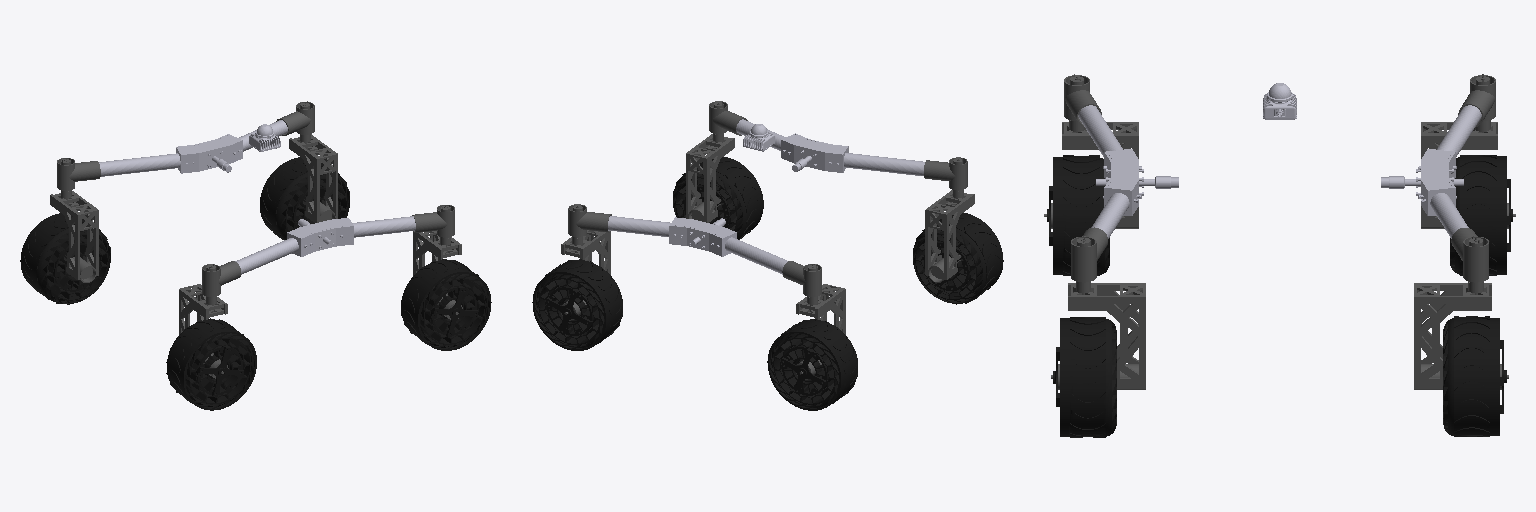
robot.urdf — athena_rover:
<?xml version="1.0" ?>
<!-- =================================================================================== -->
<!-- |    This document was autogenerated by xacro from athena_rover-6.urdf.xacro      | -->
<!-- |    EDITING THIS FILE BY HAND IS NOT RECOMMENDED                                 | -->
<!-- =================================================================================== -->
<!-- Athena Rover URDF v3 with STL mesh references. Generated from Athena.step. -->
<!-- All meshes exported in mm; scale="0.001 0.001 0.001" converts to metres.   -->
<!-- Package path: package://athena_description/meshes/                          -->
<robot name="athena_rover">
  
<!-- Camera mounting point (the threaded screw hole in the bottom) -->
  <link name="zed2i_camera_link"/>
  <!-- Camera Center -->
  <link name="zed2i_camera_center">
    <visual>
      <origin rpy="0 0 0" xyz="-0.01 0 0.0"/>
      <geometry>
        <mesh filename="package://zed_description/meshes/zed2i.stl"/>
      </geometry>
      <material name="zed_mat">
        <color rgba="0.25 0.25 0.25 1.0"/>
      </material>
    </visual>
    <collision>
      <origin rpy="0 0 0" xyz="-0.01 0 0.0"/>
      <geometry>
        <mesh filename="package://zed_description/meshes/zed2i.stl"/>
      </geometry>
    </collision>
    <inertial>
      <origin rpy="0 0 0" xyz="-0.01 0 0.0"/>
      <mass value="0"/>
      <inertia ixx="0.00044" ixy="0.0" ixz="0.0" iyy="0.0000275" iyz="0.0" izz="0.00044"/>
    </inertial>
  </link>
  <joint name="zed2i_camera_center_joint" type="fixed">
    <parent link="zed2i_camera_link"/>
    <child link="zed2i_camera_center"/>
    <origin rpy="0 0.0 0" xyz="0 0 0.015"/>
  </joint>
  <!-- Left Camera -->
  <link name="zed2i_left_camera_frame">
  </link>
  <joint name="zed2i_left_camera_joint" type="fixed">
    <parent link="zed2i_camera_center"/>
    <child link="zed2i_left_camera_frame"/>
    <origin rpy="0 0 0" xyz="-0.01 0.06 0"/>
  </joint>
  <link name="zed2i_left_camera_frame_optical"/>
  <joint name="zed2i_left_camera_joint_optical" type="fixed">
    <origin rpy="-1.5707963267948966 0.0 -1.5707963267948966" xyz="0 0 0"/>
    <parent link="zed2i_left_camera_frame"/>
    <child link="zed2i_left_camera_frame_optical"/>
  </joint>
  <!-- Right Camera -->
  <link name="zed2i_right_camera_frame">
  </link>
  <joint name="zed2i_right_camera_joint" type="fixed">
    <parent link="zed2i_camera_center"/>
    <child link="zed2i_right_camera_frame"/>
    <origin rpy="0 0 0" xyz="-0.01 -0.06 0"/>
  </joint>
  <link name="zed2i_right_camera_frame_optical"/>
  <joint name="zed2i_right_camera_joint_optical" type="fixed">
    <origin rpy="-1.5707963267948966 0.0 -1.5707963267948966" xyz="0 0 0"/>
    <parent link="zed2i_right_camera_frame"/>
    <child link="zed2i_right_camera_frame_optical"/>
  </joint>

  <material name="aluminium">
    <color rgba="0.75 0.75 0.80 1.0"/>
  </material>
  <material name="rubber">
    <color rgba="0.15 0.15 0.15 1.0"/>
  </material>
  <material name="motor_grey">
    <color rgba="0.4 0.4 0.4 1.0"/>
  </material>
  <material name="tpu_orange">
    <color rgba="0.9 0.45 0.1 1.0"/>
  </material>
  <link name="base_footprint"/>
  <joint name="base_footprint_to_base" type="fixed">
    <parent link="base_footprint"/>
    <child link="base_link"/>
    <origin rpy="0 0 0" xyz="0.0 0.0 0.155"/>
  </joint>
  <link name="base_link">
    <visual>
      <origin rpy="0 0 0" xyz="-0.2600 0.7500 -0.0850"/>
      <geometry>
        <mesh filename="package://athena_description/meshes/visual/chassis.stl" scale="0.001 0.001 0.001"/>
      </geometry>
      <material name="aluminium"/>
    </visual>
    <collision>
      <origin rpy="0 0 0" xyz="-0.2600 0.7500 -0.0850"/>
      <geometry>
        <mesh filename="package://athena_description/meshes/collision/chassis.stl" scale="0.001 0.001 0.001"/>
      </geometry>
    </collision>
    <inertial>
      <mass value="8.0"/>
      <origin rpy="0 0 0" xyz="0.0 0.0 0.0"/>
      <inertia ixx="0.400" ixy="0.0" ixz="0.0" iyy="0.180" iyz="0.0" izz="0.500"/>
    </inertial>
  </link>
  <joint name="zed2i_mount_joint" type="fixed">
    <parent link="base_link"/>
    <child link="zed2i_camera_link"/>
    <origin rpy="0 0 0" xyz="0.2 0 0.1"/>
  </joint>
  <link name="livox_mid360_link">
    <visual>
      <origin rpy="1.5708 0 0" xyz="0.0 0.0 0.0"/>
      <geometry>
        <mesh filename="package://athena_description/meshes/visual/livox-mid-360-asm.stl" scale="0.001 0.001 0.001"/>
      </geometry>
      <material name="aluminium"/>
    </visual>
<!-- Prevent collision with Genesis LIDAR rays and the mesh
    <collision>
      <origin rpy="1.5708 0 0" xyz="0.0 0.0 0.0"/>
      <geometry>
        <mesh filename="package://athena_description/meshes/collision/livox-mid-360-asm.stl" scale="0.001 0.001 0.001"/>
      </geometry>
    </collision>
-->
    <inertial>
      <mass value="1.2"/>
      <origin rpy="0 0 0" xyz="0.00 0.00 0.00"/>
      <inertia ixx="1e-4" ixy="0.0" ixz="0.0" iyy="1e-4" iyz="0.0" izz="1e-4"/>
    </inertial>
  </link>
  <joint name="livox_mid360_joint" type="fixed">
    <parent link="base_link"/>
    <child link="livox_mid360_link"/>
    <origin rpy="0 0 0" xyz="0 0 0.175"/>
  </joint>
  <link name="bogey_left">
    <visual>
      <origin rpy="0 3.1416 3.1416" xyz="-0.2600 -1.0250 0.0645"/>
      <geometry>
        <mesh filename="package://athena_description/meshes/visual/bogey_arm.stl" scale="0.001 0.001 0.001"/>
      </geometry>
      <material name="aluminium"/>
    </visual>
    <collision>
      <origin rpy="0 3.1416 3.1416" xyz="-0.2600 -1.0250 0.0645"/>
      <geometry>
        <mesh filename="package://athena_description/meshes/collision/bogey_arm.stl" scale="0.001 0.001 0.001"/>
      </geometry>
    </collision>
    <inertial>
      <mass value="1.2"/>
      <origin rpy="0 0 0" xyz="0.0 0.275 0.0"/>
      <inertia ixx="0.030" ixy="0.0" ixz="0.0" iyy="0.002" iyz="0.0" izz="0.030"/>
    </inertial>
  </link>
  <joint name="bogey_left_pivot" type="revolute">
    <parent link="base_link"/>
    <child link="bogey_left"/>
    <origin rpy="0 0 0" xyz="0.0 0.275 0.0"/>
    <axis xyz="0 1 0"/>
    <limit effort="0" lower="-0.5236" upper="0.5236" velocity="1.0"/>
    <dynamics damping="0.5" friction="0.1"/>
  </joint>
  <link name="bogey_right">
    <visual>
      <origin rpy="0 0 0" xyz="-0.2600 1.0250 -0.0645"/>
      <geometry>
        <mesh filename="package://athena_description/meshes/visual/bogey_arm.stl" scale="0.001 0.001 0.001"/>
      </geometry>
      <material name="aluminium"/>
    </visual>
    <collision>
      <origin rpy="0 0 0" xyz="-0.2600 1.0250 -0.0645"/>
      <geometry>
        <mesh filename="package://athena_description/meshes/collision/bogey_arm.stl" scale="0.001 0.001 0.001"/>
      </geometry>
    </collision>
    <inertial>
      <mass value="1.2"/>
      <origin rpy="0 0 0" xyz="0.0 -0.275 0.0"/>
      <inertia ixx="0.030" ixy="0.0" ixz="0.0" iyy="0.002" iyz="0.0" izz="0.030"/>
    </inertial>
  </link>
  <joint name="bogey_right_pivot" type="revolute">
    <parent link="base_link"/>
    <child link="bogey_right"/>
    <origin rpy="0 0 0" xyz="0.0 -0.275 0.0"/>
    <axis xyz="0 1 0"/>
    <limit effort="0" lower="-0.5236" upper="0.5236" velocity="1.0"/>
    <dynamics damping="0.5" friction="0.1"/>
  </joint>
  <!-- ================================================================ -->
  <!-- FRONT-LEFT: steering split into housing (fixed) + coupler (steers) -->
  <!-- ================================================================ -->
  <link name="steer_housing_front_left">
    <visual>
      <origin rpy="0 0 3.1416" xyz="0.6145 -1.1306 -0.1077"/>
      <geometry>
        <mesh filename="package://athena_description/meshes/visual/SteeringMotorHousing.stl" scale="0.001 0.001 0.001"/>
      </geometry>
      <material name="motor_grey"/>
    </visual>
    <collision>
      <origin rpy="0 0 3.1416" xyz="0.6145 -1.1306 -0.1077"/>
      <geometry>
        <mesh filename="package://athena_description/meshes/collision/SteeringMotorHousing.stl" scale="0.001 0.001 0.001"/>
      </geometry>
    </collision>
    <inertial>
      <mass value="0.2"/>
      <inertia ixx="0.0001" ixy="0" ixz="0" iyy="0.0001" iyz="0" izz="0.00005"/>
    </inertial>
  </link>
  <joint name="steer_housing_mount_front_left" type="fixed">
    <parent link="bogey_left"/>
    <child link="steer_housing_front_left"/>
    <origin rpy="0 0 0" xyz="-0.39291 0.11681 0.0425000"/>
  </joint>
  <link name="steer_coupler_front_left">
    <visual>
      <origin rpy="0 0 0" xyz="-0.6145 1.1307 0.0063"/>
      <geometry>
        <mesh filename="package://athena_description/meshes/visual/stearing.stl" scale="0.001 0.001 0.001"/>
      </geometry>
      <material name="motor_grey"/>
    </visual>
    <collision>
      <origin rpy="0 0 0" xyz="-0.6145 1.1307 0.0063"/>
      <geometry>
        <mesh filename="package://athena_description/meshes/collision/stearing.stl" scale="0.001 0.001 0.001"/>
      </geometry>
    </collision>
    <inertial>
      <mass value="0.15"/>
      <inertia ixx="0.0001" ixy="0" ixz="0" iyy="0.0001" iyz="0" izz="0.00005"/>
    </inertial>
  </link>
  <joint name="steer_front_left" type="revolute">
    <parent link="steer_housing_front_left"/>
    <child link="steer_coupler_front_left"/>
    <origin rpy="0 0 0" xyz="0.0 0.0 -0.111"/>
    <axis xyz="0 0 1"/>
    <limit effort="10" lower="-1.57" upper="1.57" velocity="1.0"/>
    <dynamics damping="0.2" friction="0.05"/>
  </joint>
  <link name="wheel_front_left">
    <visual>
      <origin rpy="0 0 0" xyz="0.4497 0.3642 0.1895"/>
      <geometry>
        <mesh filename="package://athena_description/meshes/visual/wheel.stl" scale="0.001 0.001 0.001"/>
      </geometry>
      <material name="rubber"/>
    </visual>
    <collision>
      <origin rpy="1.5708 0 0" xyz="0 0 0"/>
      <geometry>
        <cylinder length="0.080" radius="0.115"/>
      </geometry>
    </collision>
    <inertial>
      <mass value="0.8"/>
      <inertia ixx="0.006" ixy="0" ixz="0" iyy="0.010" iyz="0" izz="0.006"/>
    </inertial>
  </link>
  <joint name="wheel_front_left_spin" type="continuous">
    <parent link="steer_coupler_front_left"/>
    <child link="wheel_front_left"/>
    <origin rpy="0 0 0" xyz="0.0 0.0 -0.186"/>
    <axis xyz="0 1 0"/>
    <dynamics damping="0.01" friction="0.05"/>
    <limit effort="100.0" upper="3.14" velocity="10.0"/>
  </joint>
  <!-- ================================================================ -->
  <!-- REAR-LEFT -->
  <!-- ================================================================ -->
  <link name="steer_housing_rear_left">
    <visual>
      <origin rpy="0 0 0.5317" xyz="-1.1029 0.6629 -0.1077"/>
      <geometry>
        <mesh filename="package://athena_description/meshes/visual/SteeringMotorHousing.stl" scale="0.001 0.001 0.001"/>
      </geometry>
      <material name="motor_grey"/>
    </visual>
    <collision>
      <origin rpy="0 0 0.5317" xyz="-1.1029 0.6629 -0.1077"/>
      <geometry>
        <mesh filename="package://athena_description/meshes/collision/SteeringMotorHousing.stl" scale="0.001 0.001 0.001"/>
      </geometry>
    </collision>
    <inertial>
      <mass value="0.2"/>
      <inertia ixx="0.0001" ixy="0" ixz="0" iyy="0.0001" iyz="0" izz="0.00005"/>
    </inertial>
  </link>
  <joint name="steer_housing_mount_rear_left" type="fixed">
    <parent link="bogey_left"/>
    <child link="steer_housing_rear_left"/>
    <origin rpy="0 0 0" xyz="0.34458 0.10398 0.0425000"/>
  </joint>
  <link name="steer_coupler_rear_left">
    <visual>
      <origin rpy="0 0 0" xyz="-0.6145 1.1307 0.0063"/>
      <geometry>
        <mesh filename="package://athena_description/meshes/visual/stearing.stl" scale="0.001 0.001 0.001"/>
      </geometry>
      <material name="motor_grey"/>
    </visual>
    <collision>
      <origin rpy="0 0 0" xyz="-0.6145 1.1307 0.0063"/>
      <geometry>
        <mesh filename="package://athena_description/meshes/collision/stearing.stl" scale="0.001 0.001 0.001"/>
      </geometry>
    </collision>
    <inertial>
      <mass value="0.15"/>
      <inertia ixx="0.0001" ixy="0" ixz="0" iyy="0.0001" iyz="0" izz="0.00005"/>
    </inertial>
  </link>
  <joint name="steer_rear_left" type="revolute">
    <parent link="steer_housing_rear_left"/>
    <child link="steer_coupler_rear_left"/>
    <origin rpy="0 0 0" xyz="0.0 0.0 -0.111"/>
    <axis xyz="0 0 1"/>
    <limit effort="10" lower="-1.57" upper="1.57" velocity="1.0"/>
    <dynamics damping="0.2" friction="0.05"/>
  </joint>
  <link name="wheel_rear_left">
    <visual>
      <origin rpy="0 0 0" xyz="0.4497 0.3642 0.1895"/>
      <geometry>
        <mesh filename="package://athena_description/meshes/visual/wheel.stl" scale="0.001 0.001 0.001"/>
      </geometry>
      <material name="rubber"/>
    </visual>
    <collision>
      <origin rpy="1.5708 0 0" xyz="0 0 0"/>
      <geometry>
        <cylinder length="0.080" radius="0.115"/>
      </geometry>
    </collision>
    <inertial>
      <mass value="0.8"/>
      <inertia ixx="0.006" ixy="0" ixz="0" iyy="0.010" iyz="0" izz="0.006"/>
    </inertial>
  </link>
  <joint name="wheel_rear_left_spin" type="continuous">
    <parent link="steer_coupler_rear_left"/>
    <child link="wheel_rear_left"/>
    <origin rpy="0 0 0" xyz="0.0 0.0 -0.186"/>
    <axis xyz="0 1 0"/>
    <dynamics damping="0.01" friction="0.05"/>
  </joint>
  <!-- ================================================================ -->
  <!-- FRONT-RIGHT (mirrored) -->
  <!-- ================================================================ -->
  <link name="steer_housing_front_right">
    <visual>
      <origin rpy="0 0 3.6692" xyz="1.1002 -0.6674 -0.1077"/>
      <geometry>
        <mesh filename="package://athena_description/meshes/visual/SteeringMotorHousing.stl" scale="0.001 0.001 0.001"/>
      </geometry>
      <material name="motor_grey"/>
    </visual>
    <collision>
      <origin rpy="0 0 3.6692" xyz="1.1002 -0.6674 -0.1077"/>
      <geometry>
        <mesh filename="package://athena_description/meshes/collision/SteeringMotorHousing.stl" scale="0.001 0.001 0.001"/>
      </geometry>
    </collision>
    <inertial>
      <mass value="0.2"/>
      <inertia ixx="0.0001" ixy="0" ixz="0" iyy="0.0001" iyz="0" izz="0.00005"/>
    </inertial>
  </link>
  <joint name="steer_housing_mount_front_right" type="fixed">
    <parent link="bogey_right"/>
    <child link="steer_housing_front_right"/>
    <origin rpy="0 0 0" xyz="-0.39291 -0.11681 0.0425000"/>
  </joint>
  <link name="steer_coupler_front_right">
    <visual>
      <origin rpy="0 0 3.1416" xyz="0.6145 -1.1307 0.0063"/>
      <geometry>
        <mesh filename="package://athena_description/meshes/visual/stearing.stl" scale="0.001 0.001 0.001"/>
      </geometry>
      <material name="motor_grey"/>
    </visual>
    <collision>
      <origin rpy="0 0 3.1416" xyz="0.6145 -1.1307 0.0063"/>
      <geometry>
        <mesh filename="package://athena_description/meshes/collision/stearing.stl" scale="0.001 0.001 0.001"/>
      </geometry>
    </collision>
    <inertial>
      <mass value="0.15"/>
      <inertia ixx="0.0001" ixy="0" ixz="0" iyy="0.0001" iyz="0" izz="0.00005"/>
    </inertial>
  </link>
  <joint name="steer_front_right" type="revolute">
    <parent link="steer_housing_front_right"/>
    <child link="steer_coupler_front_right"/>
    <origin rpy="0 0 0" xyz="0.0 0.0 -0.111"/>
    <axis xyz="0 0 1"/>
    <limit effort="10" lower="-1.57" upper="1.57" velocity="1.0"/>
    <dynamics damping="0.2" friction="0.05"/>
  </joint>
  <link name="wheel_front_right">
    <visual>
      <origin rpy="0 0 3.1416" xyz="-0.4497 -0.3642 0.1895"/>
      <geometry>
        <mesh filename="package://athena_description/meshes/visual/wheel.stl" scale="0.001 0.001 0.001"/>
      </geometry>
      <material name="rubber"/>
    </visual>
    <collision>
      <origin rpy="1.5708 0 0" xyz="0 0 0"/>
      <geometry>
        <cylinder length="0.080" radius="0.115"/>
      </geometry>
    </collision>
    <inertial>
      <mass value="0.8"/>
      <inertia ixx="0.006" ixy="0" ixz="0" iyy="0.010" iyz="0" izz="0.006"/>
    </inertial>
  </link>
  <joint name="wheel_front_right_spin" type="continuous">
    <parent link="steer_coupler_front_right"/>
    <child link="wheel_front_right"/>
    <origin rpy="0 0 0" xyz="0.0 0.0 -0.186"/>
    <axis xyz="0 1 0"/>
    <dynamics damping="0.01" friction="0.05"/>
  </joint>
  <!-- ================================================================ -->
  <!-- REAR-RIGHT (mirrored) -->
  <!-- ================================================================ -->
  <link name="steer_housing_rear_right">
    <visual>
      <origin rpy="0 0 0" xyz="-0.6145 1.1306 -0.1077"/>
      <geometry>
        <mesh filename="package://athena_description/meshes/visual/SteeringMotorHousing.stl" scale="0.001 0.001 0.001"/>
      </geometry>
      <material name="motor_grey"/>
    </visual>
    <collision>
      <origin rpy="0 0 0" xyz="-0.6145 1.1306 -0.1077"/>
      <geometry>
        <mesh filename="package://athena_description/meshes/collision/SteeringMotorHousing.stl" scale="0.001 0.001 0.001"/>
      </geometry>
    </collision>
    <inertial>
      <mass value="0.2"/>
      <inertia ixx="0.0001" ixy="0" ixz="0" iyy="0.0001" iyz="0" izz="0.00005"/>
    </inertial>
  </link>
  <joint name="steer_housing_mount_rear_right" type="fixed">
    <parent link="bogey_right"/>
    <child link="steer_housing_rear_right"/>
    <origin rpy="0 0 0" xyz="0.34458 -0.10398 0.0425000"/>
  </joint>
  <link name="steer_coupler_rear_right">
    <visual>
      <origin rpy="0 0 3.1416" xyz="0.6145 -1.1307 0.0063"/>
      <geometry>
        <mesh filename="package://athena_description/meshes/visual/stearing.stl" scale="0.001 0.001 0.001"/>
      </geometry>
      <material name="motor_grey"/>
    </visual>
    <collision>
      <origin rpy="0 0 3.1416" xyz="0.6145 -1.1307 0.0063"/>
      <geometry>
        <mesh filename="package://athena_description/meshes/collision/stearing.stl" scale="0.001 0.001 0.001"/>
      </geometry>
    </collision>
    <inertial>
      <mass value="0.15"/>
      <inertia ixx="0.0001" ixy="0" ixz="0" iyy="0.0001" iyz="0" izz="0.00005"/>
    </inertial>
  </link>
  <joint name="steer_rear_right" type="revolute">
    <parent link="steer_housing_rear_right"/>
    <child link="steer_coupler_rear_right"/>
    <origin rpy="0 0 0" xyz="0.0 0.0 -0.111"/>
    <axis xyz="0 0 1"/>
    <limit effort="10" lower="-1.57" upper="1.57" velocity="1.0"/>
    <dynamics damping="0.2" friction="0.05"/>
  </joint>
  <link name="wheel_rear_right">
    <visual>
      <origin rpy="0 0 3.1416" xyz="-0.4497 -0.3642 0.1895"/>
      <geometry>
        <mesh filename="package://athena_description/meshes/visual/wheel.stl" scale="0.001 0.001 0.001"/>
      </geometry>
      <material name="rubber"/>
    </visual>
    <collision>
      <origin rpy="1.5708 0 0" xyz="0 0 0"/>
      <geometry>
        <cylinder length="0.080" radius="0.115"/>
      </geometry>
    </collision>
    <inertial>
      <mass value="0.8"/>
      <inertia ixx="0.006" ixy="0" ixz="0" iyy="0.010" iyz="0" izz="0.006"/>
    </inertial>
  </link>
  <joint name="wheel_rear_right_spin" type="continuous">
    <parent link="steer_coupler_rear_right"/>
    <child link="wheel_rear_right"/>
    <origin rpy="0 0 0" xyz="0.0 0.0 -0.186"/>
    <axis xyz="0 1 0"/>
    <dynamics damping="0.01" friction="0.05"/>
  </joint>
</robot>

--- Facts derived from the render (not from the file) ---
3 views of the same robot in one strip: view 1: azimuth 30°, elevation 25°; view 2: azimuth 150°, elevation 25°; view 3: azimuth 270°, elevation 25° (orthographic).
Robot: athena_rover — 23 links, 22 joints (6 revolute, 4 continuous, 12 fixed); root link base_footprint; default pose: all joints at 0.
Links seen in each view (by area): view 1: wheel_rear_right, wheel_front_right, wheel_front_left, bogey_right, wheel_rear_left, bogey_left, steer_coupler_front_left, steer_coupler_rear_left, steer_coupler_front_right, steer_coupler_rear_right, steer_housing_front_left, steer_housing_rear_right (+3 smaller); view 2: wheel_front_left, wheel_rear_left, wheel_front_right, bogey_left, wheel_rear_right, bogey_right, steer_coupler_front_right, steer_coupler_rear_right, steer_coupler_front_left, steer_coupler_rear_left, steer_housing_front_right, steer_housing_rear_left (+3 smaller); view 3: wheel_rear_left, wheel_rear_right, wheel_front_left, wheel_front_right, steer_coupler_rear_right, steer_coupler_rear_left, bogey_right, bogey_left, steer_coupler_front_right, steer_coupler_front_left, steer_housing_rear_left, steer_housing_rear_right (+3 smaller).
Boxes of the visible links, x1=… form: wheel_rear_right: x1=401, y1=259, x2=491, y2=350; wheel_front_right: x1=166, y1=318, x2=256, y2=410; wheel_front_left: x1=20, y1=213, x2=110, y2=304; bogey_right: x1=235, y1=216, x2=415, y2=274; wheel_rear_left: x1=260, y1=157, x2=349, y2=239; bogey_left: x1=99, y1=120, x2=287, y2=176; steer_coupler_front_left: x1=50, y1=191, x2=98, y2=282; steer_coupler_rear_left: x1=289, y1=134, x2=337, y2=222; steer_coupler_front_right: x1=179, y1=284, x2=228, y2=378; steer_coupler_rear_right: x1=413, y1=231, x2=462, y2=319; steer_housing_front_left: x1=57, y1=158, x2=100, y2=198; steer_housing_rear_right: x1=412, y1=205, x2=454, y2=244; wheel_front_left: x1=767, y1=319, x2=857, y2=410; wheel_rear_left: x1=532, y1=259, x2=622, y2=350; wheel_front_right: x1=913, y1=213, x2=1003, y2=304; bogey_left: x1=608, y1=216, x2=787, y2=274; wheel_rear_right: x1=673, y1=157, x2=763, y2=239; bogey_right: x1=736, y1=119, x2=924, y2=175; steer_coupler_front_right: x1=925, y1=190, x2=974, y2=282; steer_coupler_rear_right: x1=686, y1=134, x2=734, y2=222; steer_coupler_front_left: x1=796, y1=284, x2=845, y2=379; steer_coupler_rear_left: x1=561, y1=230, x2=610, y2=320; steer_housing_front_right: x1=924, y1=157, x2=967, y2=197; steer_housing_rear_left: x1=568, y1=204, x2=611, y2=244; wheel_rear_left: x1=1443, y1=316, x2=1506, y2=436; wheel_rear_right: x1=1053, y1=317, x2=1116, y2=437; wheel_front_left: x1=1450, y1=155, x2=1512, y2=275; wheel_front_right: x1=1047, y1=155, x2=1109, y2=275; steer_coupler_rear_right: x1=1051, y1=283, x2=1145, y2=389; steer_coupler_rear_left: x1=1414, y1=283, x2=1508, y2=389; bogey_right: x1=1078, y1=105, x2=1178, y2=238; bogey_left: x1=1381, y1=105, x2=1481, y2=238; steer_coupler_front_right: x1=1044, y1=122, x2=1138, y2=228; steer_coupler_front_left: x1=1421, y1=122, x2=1515, y2=228; steer_housing_rear_left: x1=1451, y1=228, x2=1488, y2=292; steer_housing_rear_right: x1=1071, y1=227, x2=1107, y2=292.
Bounding box of the posed robot: 0.9735 × 0.9097 × 0.5799 m (x, y, z).
Meshes: 7 distinct files referenced, 15 mesh visuals loaded (5 binary STL); not drawn: 2 (reference not matched to a file when rendering).
